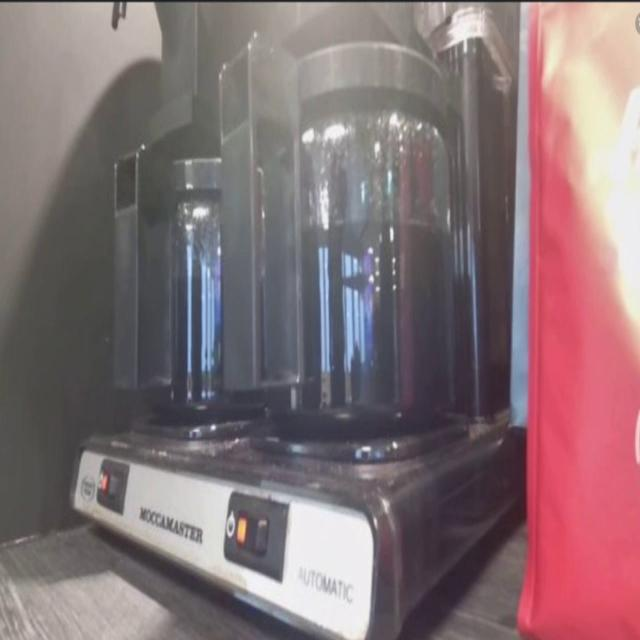coffee: (270, 139, 454, 428), (159, 221, 266, 416)
